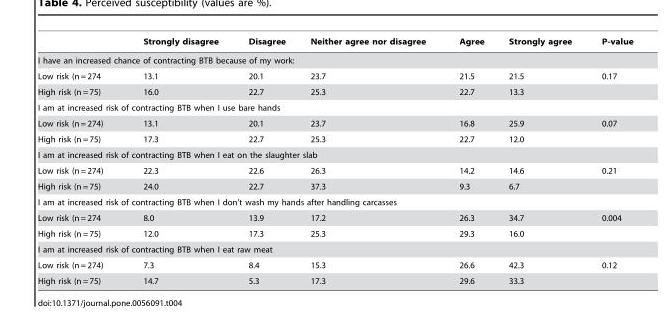table: (37, 36, 632, 285)
table column: (297, 36, 441, 285), (122, 36, 232, 285), (495, 36, 586, 285), (37, 36, 122, 285), (232, 36, 297, 285), (441, 36, 495, 285), (586, 36, 632, 285)
table column header: (37, 36, 632, 50)
table projected row header: (37, 50, 632, 68), (37, 99, 632, 115), (37, 146, 632, 162), (37, 241, 632, 257), (37, 194, 632, 209)
table row: (37, 50, 632, 68), (37, 83, 632, 99), (37, 99, 632, 115), (37, 115, 632, 131), (37, 146, 632, 162), (37, 162, 632, 178), (37, 178, 632, 194), (37, 209, 632, 225), (37, 225, 632, 241), (37, 241, 632, 257), (37, 68, 632, 83), (37, 131, 632, 146), (37, 194, 632, 209), (37, 257, 632, 272), (37, 36, 632, 50), (37, 272, 632, 285)
